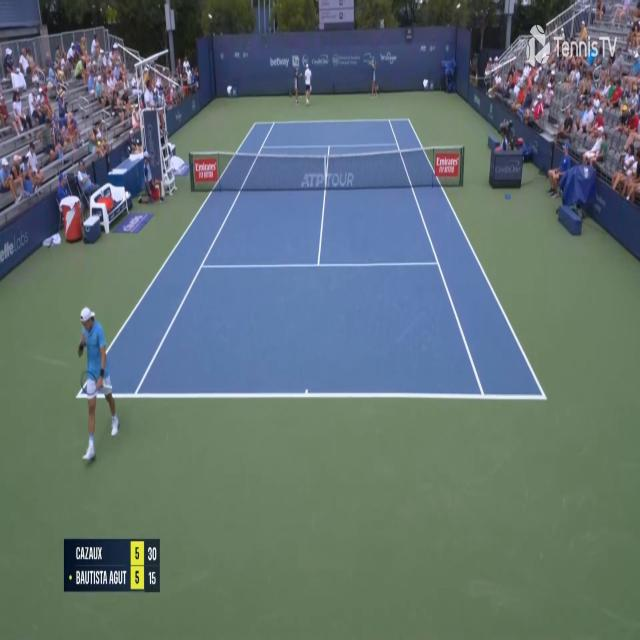tennis-player: (74, 303, 128, 469), (295, 62, 313, 107)
